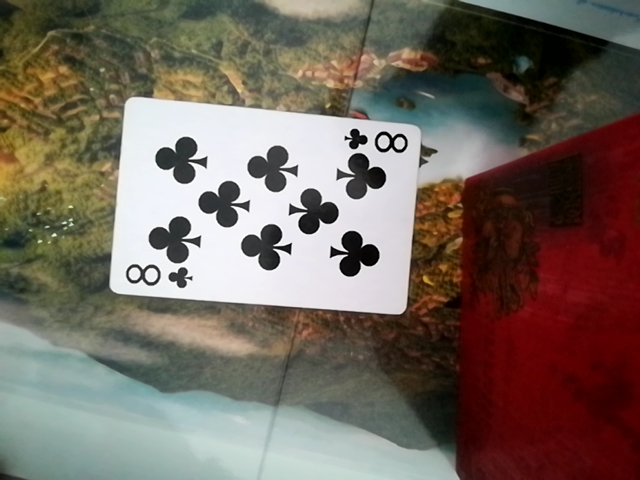mh 8: (109, 97, 426, 322)
